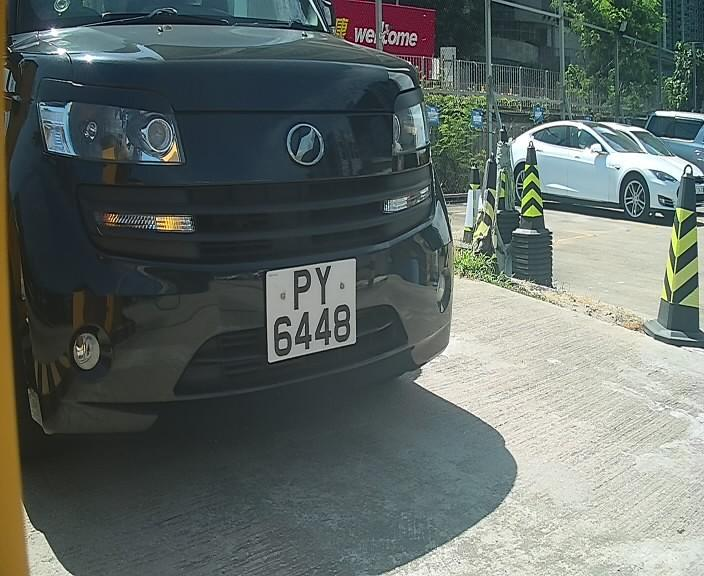privatecar: (16, 11, 444, 430)
